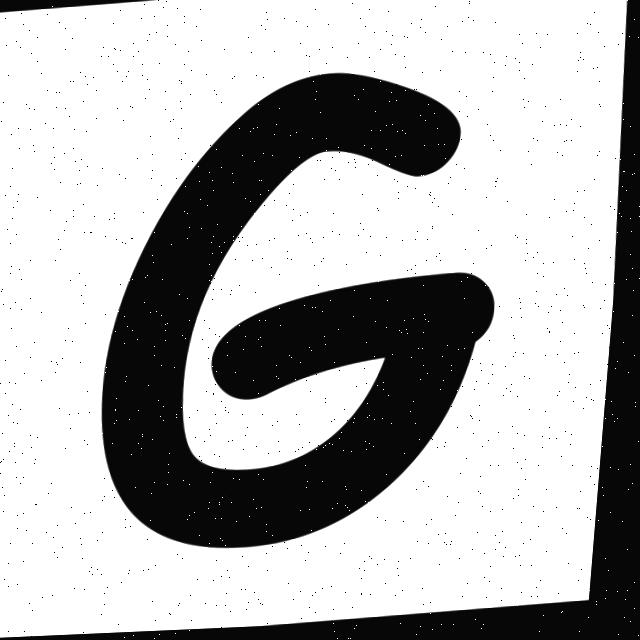G: (109, 76, 499, 550)
